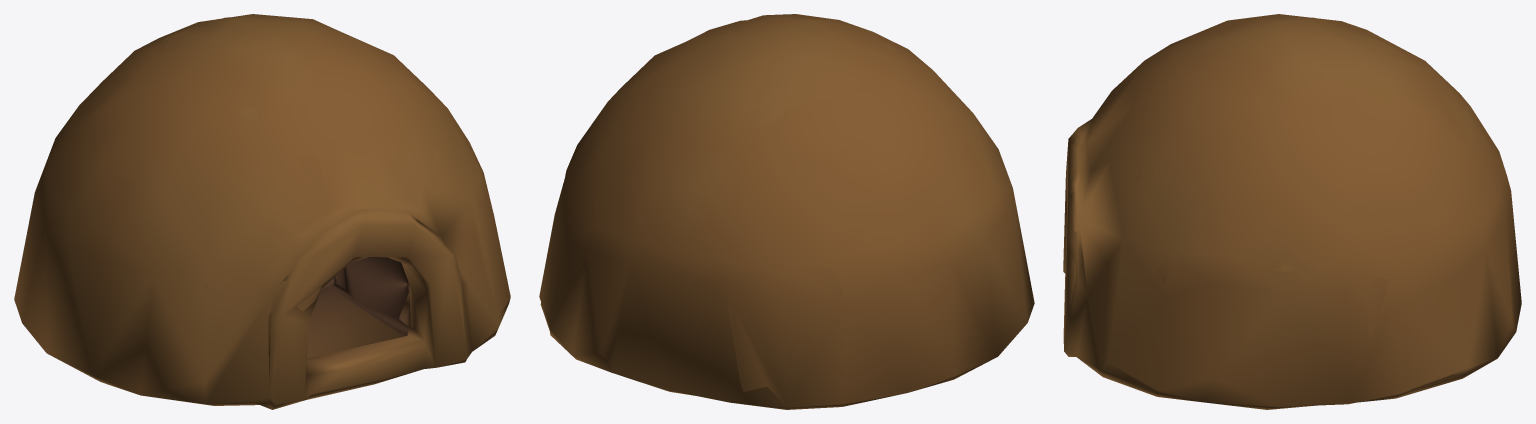
The model's file is gen3d-adobe-oven-lod1.glb.
The picture shows the model from 3 angles, left to right: view 1: azimuth 30°, elevation 25°; view 2: azimuth 150°, elevation 25°; view 3: azimuth 270°, elevation 25°; orthographic projection.
Visible parts, largest first — view 1: part_0; view 2: part_0; view 3: part_0.
Part boxes in pixels (box(x1,y1,x2,y2)): part_0: box(14, 14, 510, 409); part_0: box(539, 14, 1034, 409); part_0: box(1063, 14, 1521, 409).
Bounding box in the file's own units: 1.63 × 0.9973 × 1.5.
